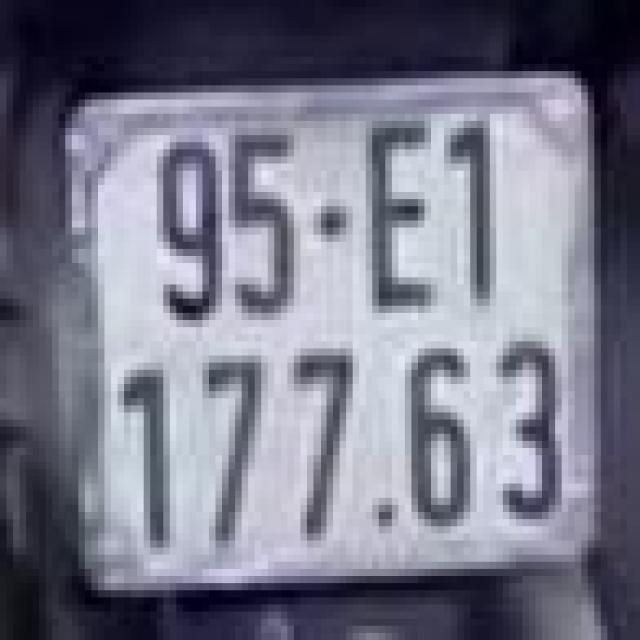1: (114, 345, 180, 558), (447, 110, 506, 310)
3: (493, 323, 571, 530)
5: (222, 110, 307, 331)
6: (398, 334, 484, 540)
7: (280, 348, 352, 554), (199, 342, 265, 548)
9: (150, 124, 229, 323)
E: (359, 114, 438, 320)
